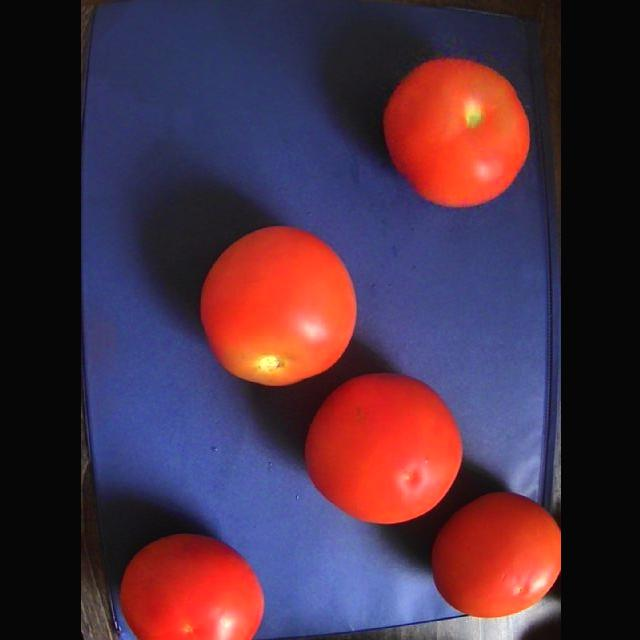tomate: (201, 226, 356, 384), (305, 374, 461, 523), (383, 59, 529, 206), (431, 492, 560, 617), (120, 533, 263, 639)
